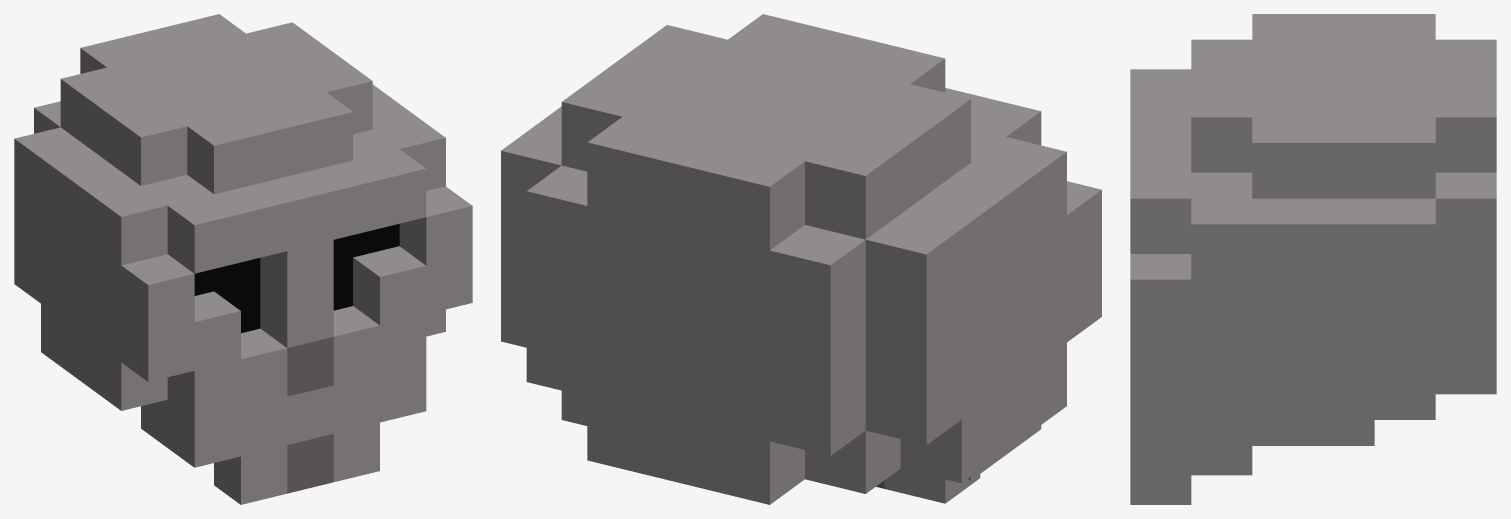
The model's file is adema.gltf.
3 views of the same model, side by side, from view 1: azimuth 30°, elevation 25°; view 2: azimuth 150°, elevation 25°; view 3: azimuth 270°, elevation 25° (orthographic). The views are drawn at different scales.
Visible parts, largest first — view 1: Layer.1; view 2: Layer.1; view 3: Layer.1.
Part boxes in pixels (left/top/right/bottom): Layer.1: left=14, top=14, right=472, bottom=504; Layer.1: left=501, top=14, right=1101, bottom=504; Layer.1: left=1130, top=14, right=1496, bottom=504.
Size of the model in its own units: 7 by 7 by 6.
1 material, 1 textured.
